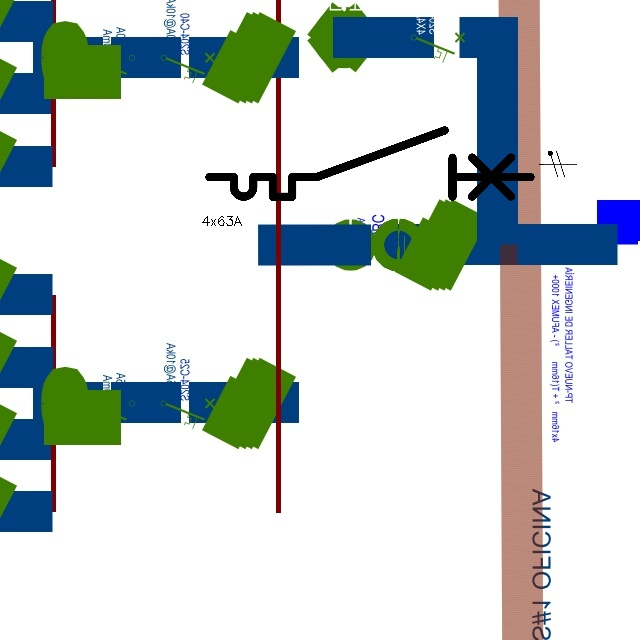interruptor_termomagnetico: (201, 122, 539, 205)
